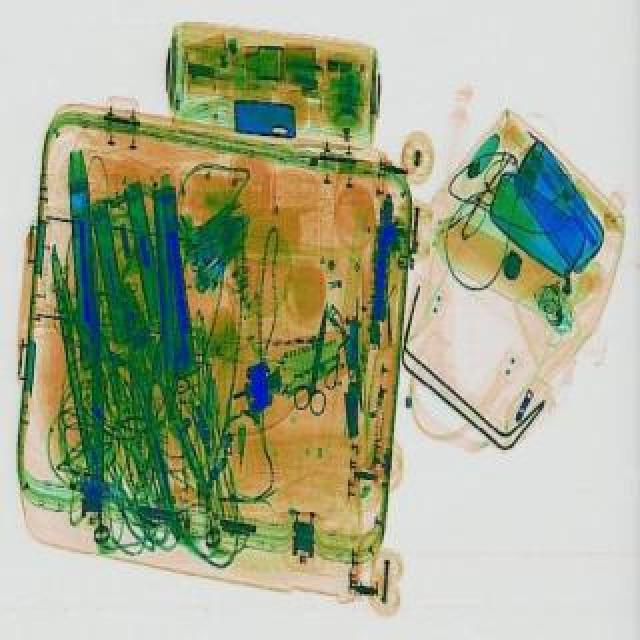pliers: (290, 304, 346, 420)
